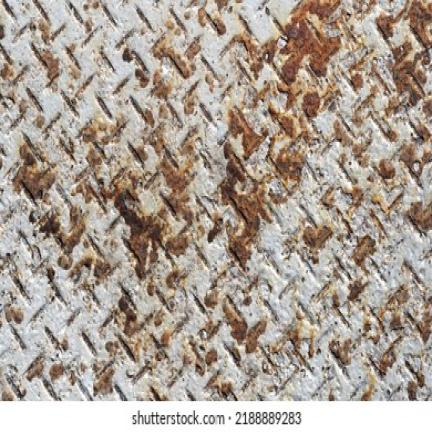karat: (373, 0, 431, 163)
